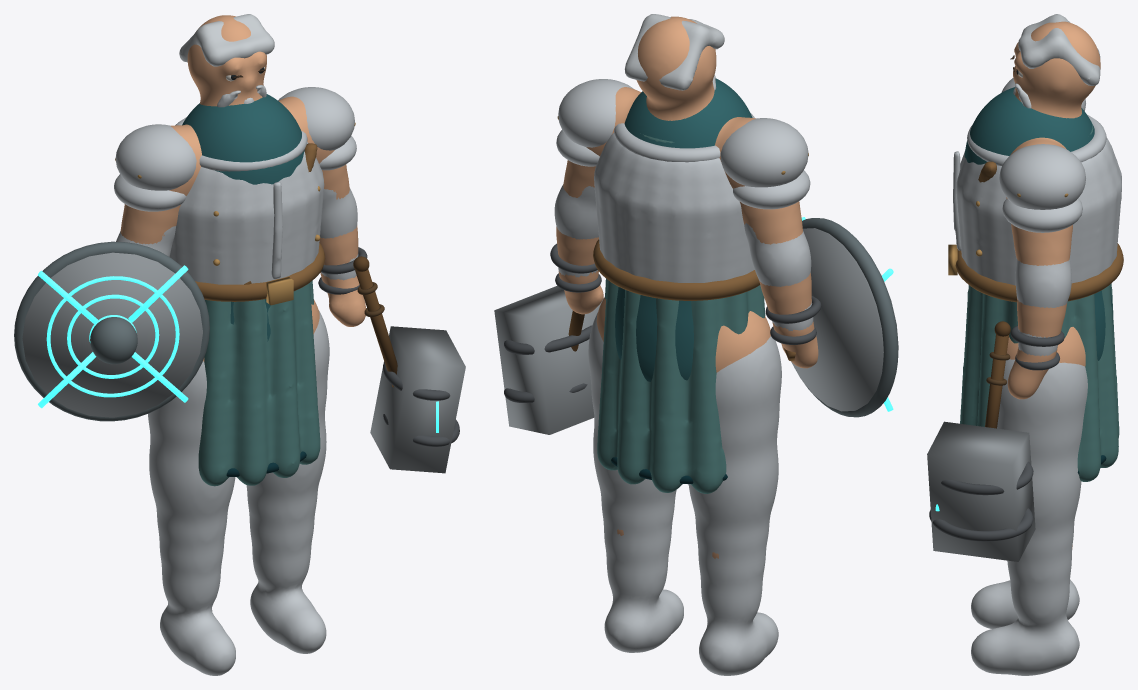
The model's file is 3D模型 char_paladin.glb.
The picture shows the model from 3 angles, left to right: view 1: azimuth 30°, elevation 25°; view 2: azimuth 150°, elevation 25°; view 3: azimuth 270°, elevation 25°; orthographic projection. The views are drawn at different scales.
Parts seen in each view (by area): view 1: char_paladin_legshell.001, char_paladin_skirt.001, char_paladin_shield, char_paladin_cuirass.001, char_paladin_body, char_paladin_hhead, char_paladin_gambeson.001, char_paladin_srim, char_paladin_paud_L, char_paladin_paud_R, char_paladin_hair.001, char_paladin_armshell.001 (+10 smaller); view 2: char_paladin_legshell.001, char_paladin_skirt.001, char_paladin_cuirass.001, char_paladin_body, char_paladin_shield, char_paladin_hhead, char_paladin_gambeson.001, char_paladin_armshell.001, char_paladin_paud_L, char_paladin_srim, char_paladin_paud_R, char_paladin_belt (+6 smaller); view 3: char_paladin_legshell.001, char_paladin_hhead, char_paladin_skirt.001, char_paladin_body, char_paladin_cuirass.001, char_paladin_gambeson.001, char_paladin_paud_R, char_paladin_armshell.001, char_paladin_hair.001, char_paladin_belt, char_paladin_paul_R, char_paladin_hband1 (+6 smaller).
Part boxes in pixels (<box>): char_paladin_legshell.001: <box>148,310,329,675</box>; char_paladin_skirt.001: <box>198,280,320,486</box>; char_paladin_shield: <box>22,252,202,417</box>; char_paladin_cuirass.001: <box>169,142,324,284</box>; char_paladin_body: <box>120,15,366,361</box>; char_paladin_hhead: <box>370,326,465,473</box>; char_paladin_gambeson.001: <box>182,94,304,341</box>; char_paladin_srim: <box>14,241,209,421</box>; char_paladin_paud_L: <box>115,124,196,190</box>; char_paladin_paud_R: <box>278,87,354,150</box>; char_paladin_hair.001: <box>179,14,274,66</box>; char_paladin_armshell.001: <box>116,188,358,280</box>; char_paladin_legshell.001: <box>588,312,781,675</box>; char_paladin_skirt.001: <box>597,278,765,493</box>; char_paladin_cuirass.001: <box>594,133,754,282</box>; char_paladin_body: <box>556,16,818,558</box>; char_paladin_shield: <box>791,228,898,411</box>; char_paladin_hhead: <box>494,286,603,434</box>; char_paladin_gambeson.001: <box>615,78,752,381</box>; char_paladin_armshell.001: <box>554,184,813,330</box>; char_paladin_paud_L: <box>720,118,808,187</box>; char_paladin_srim: <box>802,218,898,417</box>; char_paladin_paud_R: <box>558,79,633,147</box>; char_paladin_belt: <box>593,239,760,300</box>; char_paladin_legshell.001: <box>971,359,1087,675</box>; char_paladin_hhead: <box>927,421,1035,561</box>; char_paladin_skirt.001: <box>960,283,1119,481</box>; char_paladin_body: <box>1006,21,1100,548</box>; char_paladin_cuirass.001: <box>956,138,1121,285</box>; char_paladin_gambeson.001: <box>964,87,1112,360</box>; char_paladin_paud_R: <box>999,144,1085,209</box>; char_paladin_armshell.001: <box>1014,247,1071,356</box>; char_paladin_hair.001: <box>1018,14,1100,85</box>; char_paladin_belt: <box>955,243,1123,302</box>; char_paladin_paul_R: <box>1002,198,1082,232</box>; char_paladin_hband1: <box>929,508,1033,541</box>.
Size of the model in its own units: 1.22 by 1.78 by 0.5068.
